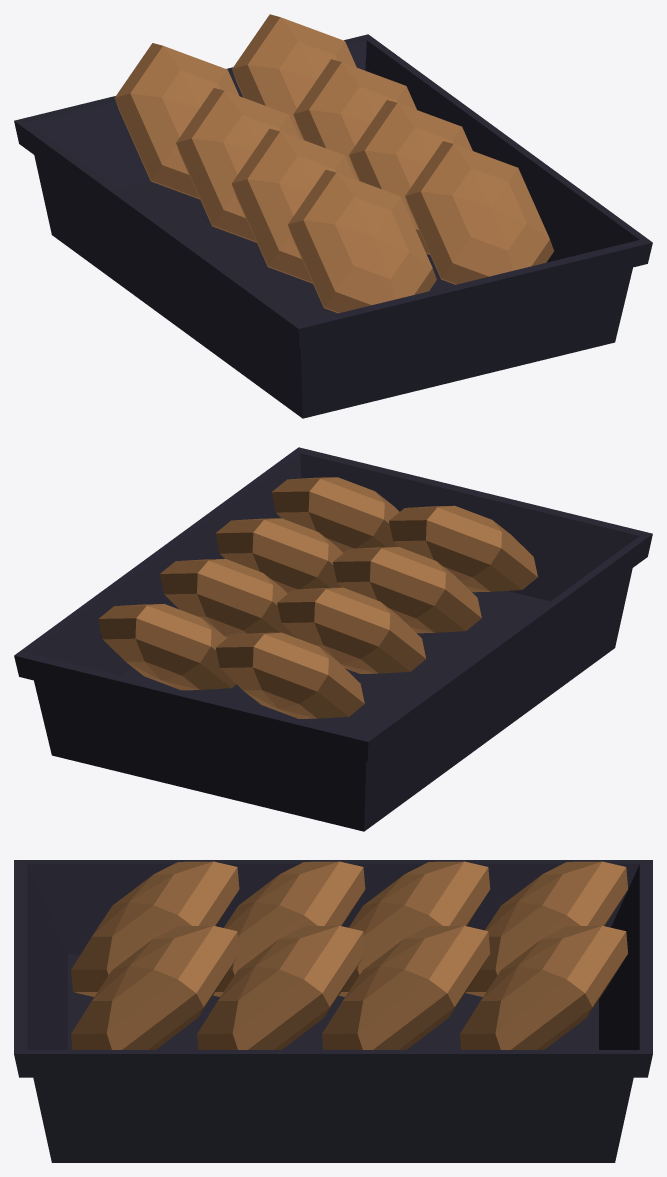
File: Pandesal.fbx
3 renders of one model, top to bottom at view 1: azimuth 30°, elevation 25°; view 2: azimuth 150°, elevation 25°; view 3: azimuth 270°, elevation 25°, orthographic. The views are drawn at different scales.
Visible parts, largest first — view 1: Pandesal; view 2: Pandesal; view 3: Pandesal.
Boxes of the visible parts, x1,y1,x2,y2 form: Pandesal: (14, 14, 652, 418); Pandesal: (14, 447, 652, 831); Pandesal: (14, 860, 652, 1162).
Size of the model in its own units: 95.05 by 132 by 42.98.
